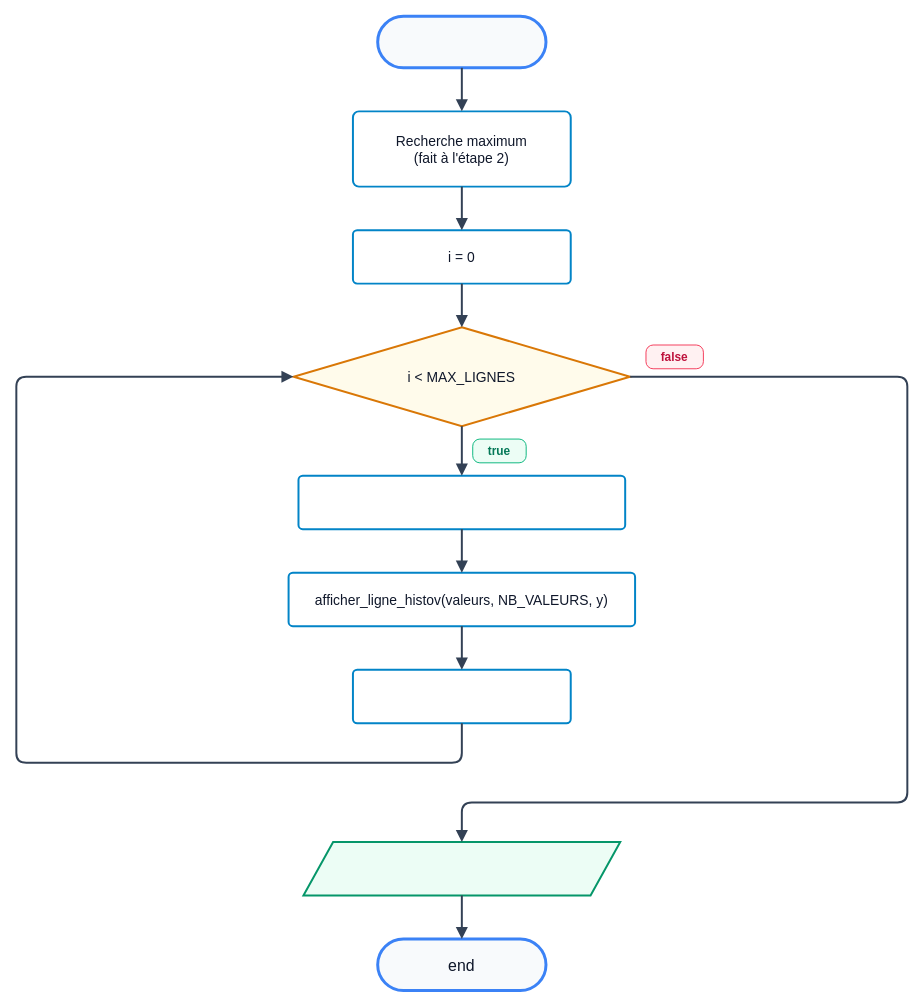
This 924x1007 diagram has some shape labels left out. The shapes that lost their labels are listed below. From the top down, each one's centre as x and y in pixels, then its label:
[461,41]: start
[461,502]: y = maximum - i * maximum / MAX_LIGNES
[461,696]: i++
[461,868]: "+---------------------------------------\n"
